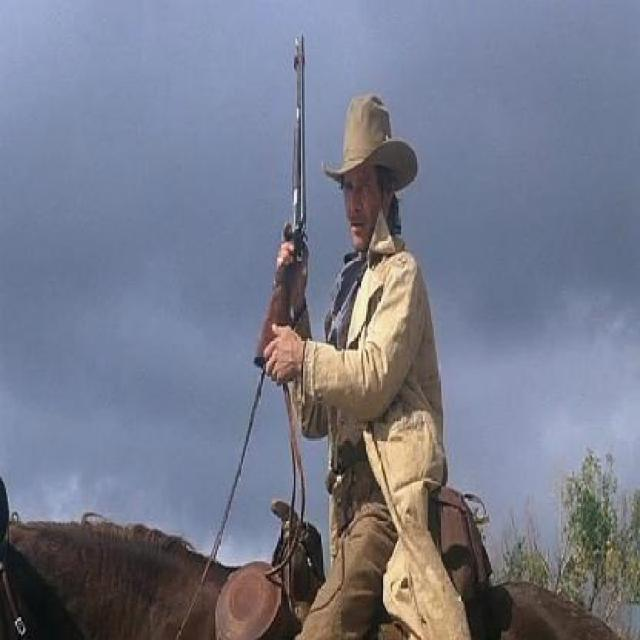gun: (251, 32, 335, 370)
